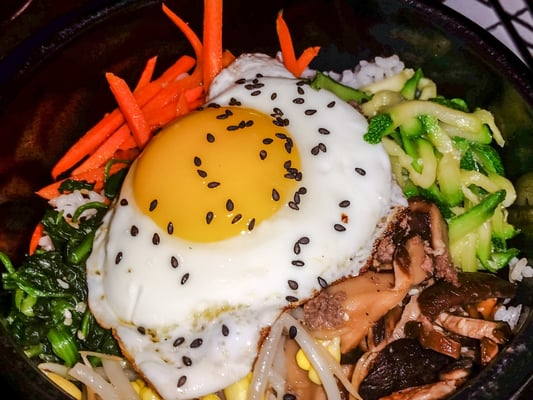curry: (365, 112, 526, 274)
